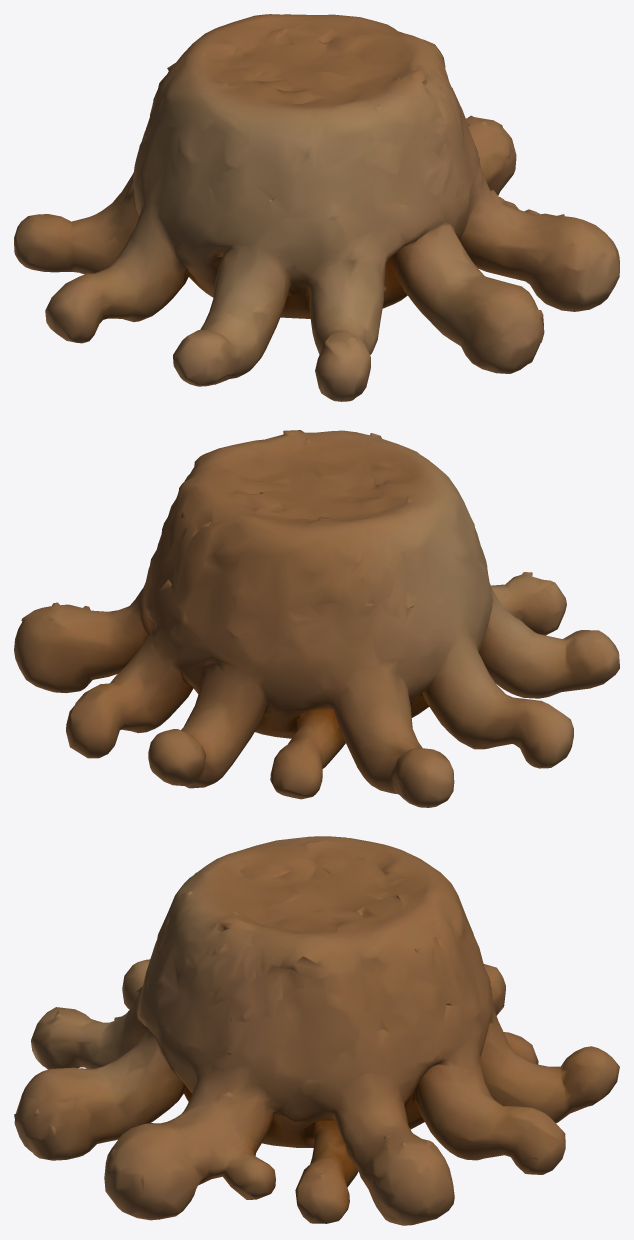
The model's file is legs.glb.
3 views of the same model, one above another, from view 1: azimuth 30°, elevation 25°; view 2: azimuth 150°, elevation 25°; view 3: azimuth 270°, elevation 25° (orthographic). The views are drawn at different scales.
Parts seen in each view (by area): view 1: tripo_node_69c4690c-cf6f-42da-9e21-d78d2bc5708b; view 2: tripo_node_69c4690c-cf6f-42da-9e21-d78d2bc5708b; view 3: tripo_node_69c4690c-cf6f-42da-9e21-d78d2bc5708b.
Part boxes in pixels (<box>): tripo_node_69c4690c-cf6f-42da-9e21-d78d2bc5708b: <box>14,14,619,401</box>; tripo_node_69c4690c-cf6f-42da-9e21-d78d2bc5708b: <box>14,430,619,807</box>; tripo_node_69c4690c-cf6f-42da-9e21-d78d2bc5708b: <box>14,836,619,1225</box>.
Size of the model in its own units: 0.9832 by 0.4272 by 1.
1 material, 1 textured.
